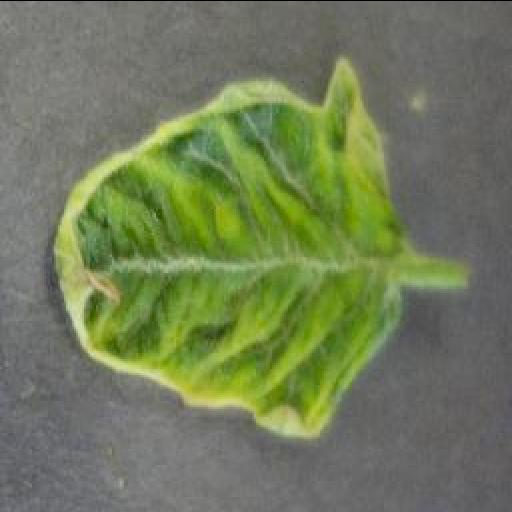disease_tomato: (52, 54, 406, 442)
